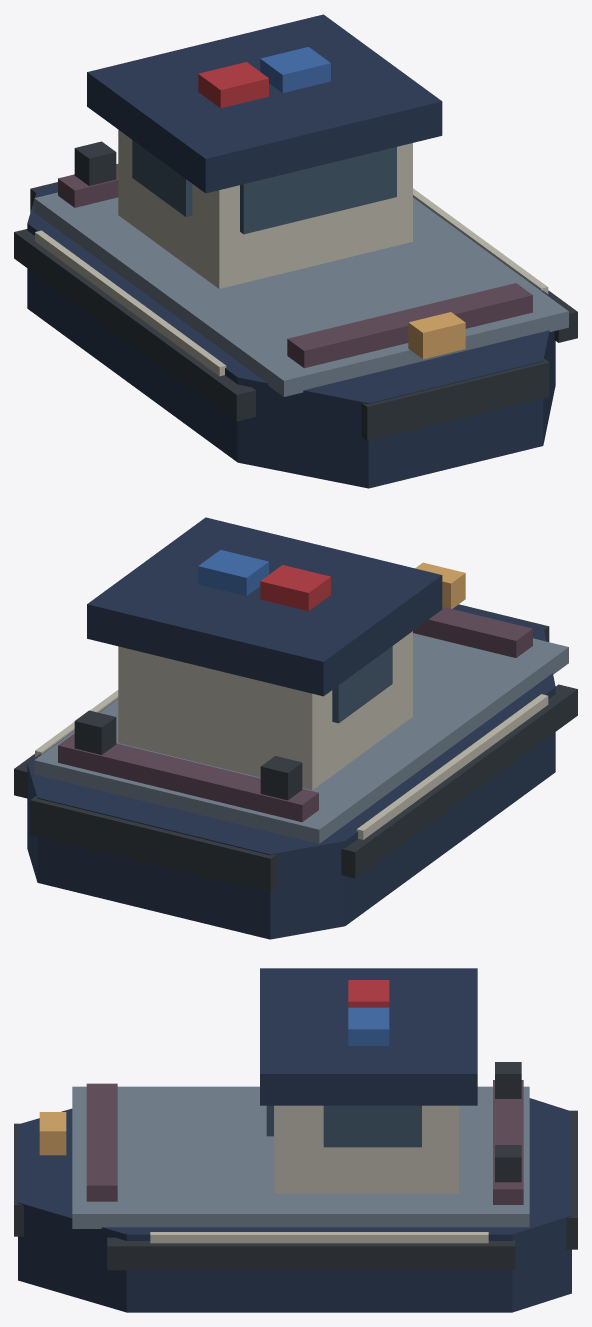
The model's file is gotham_police_boat.glb.
The picture shows the model from 3 angles, top to bottom: view 1: azimuth 30°, elevation 25°; view 2: azimuth 150°, elevation 25°; view 3: azimuth 270°, elevation 25°; orthographic projection. The views are drawn at different scales.
Visible parts, largest first — view 1: Angular patrol hull, Deck inset, Cabin roof, Cabin lower, Port rub rail, Windshield front, Forward gunwale, Bow bumper, Port side stripe, Roof police beacon red, Roof police beacon blue, Cabin window port (+5 smaller); view 2: Angular patrol hull, Cabin roof, Cabin lower, Deck inset, Stern bumper, Port rub rail, Stern gunwale, Forward gunwale, Port side stripe, Roof police beacon red, Roof police beacon blue, Cabin window port (+4 smaller); view 3: Angular patrol hull, Deck inset, Cabin roof, Cabin lower, Starboard rub rail, Cabin window starboard, Starboard side stripe, Forward gunwale, Stern gunwale, Roof police beacon blue, Bow navigation lamp, Roof police beacon red (+4 smaller).
Part boxes in pixels (x1=…): Angular patrol hull: x1=27, y1=184, x2=555, y2=488; Deck inset: x1=34, y1=192, x2=568, y2=396; Cabin roof: x1=87, y1=14, x2=442, y2=193; Cabin lower: x1=118, y1=130, x2=412, y2=288; Port rub rail: x1=14, y1=229, x2=255, y2=421; Windshield front: x1=240, y1=147, x2=396, y2=234; Forward gunwale: x1=287, y1=283, x2=532, y2=368; Bow bumper: x1=361, y1=359, x2=549, y2=441; Port side stripe: x1=35, y1=230, x2=226, y2=376; Roof police beacon red: x1=198, y1=62, x2=268, y2=108; Roof police beacon blue: x1=260, y1=47, x2=330, y2=92; Cabin window port: x1=132, y1=140, x2=192, y2=216; Angular patrol hull: x1=27, y1=605, x2=555, y2=939; Cabin roof: x1=87, y1=517, x2=442, y2=696; Cabin lower: x1=118, y1=631, x2=412, y2=790; Deck inset: x1=34, y1=633, x2=568, y2=843; Stern bumper: x1=30, y1=796, x2=276, y2=893; Port rub rail: x1=341, y1=684, x2=577, y2=878; Stern gunwale: x1=58, y1=733, x2=318, y2=822; Forward gunwale: x1=413, y1=606, x2=532, y2=657; Port side stripe: x1=356, y1=694, x2=548, y2=839; Roof police beacon red: x1=260, y1=565, x2=330, y2=611; Roof police beacon blue: x1=198, y1=549, x2=268, y2=595; Cabin window port: x1=332, y1=646, x2=392, y2=723; Angular patrol hull: x1=18, y1=1098, x2=571, y2=1312; Deck inset: x1=72, y1=1086, x2=529, y2=1228; Cabin roof: x1=260, y1=968, x2=477, y2=1105; Cabin lower: x1=274, y1=1105, x2=458, y2=1193; Starboard rub rail: x1=107, y1=1237, x2=515, y2=1270; Cabin window starboard: x1=323, y1=1105, x2=421, y2=1147; Starboard side stripe: x1=150, y1=1232, x2=488, y2=1243; Forward gunwale: x1=86, y1=1083, x2=117, y2=1201; Stern gunwale: x1=493, y1=1080, x2=523, y2=1204; Roof police beacon blue: x1=348, y1=1007, x2=389, y2=1045; Bow navigation lamp: x1=39, y1=1112, x2=66, y2=1155; Roof police beacon red: x1=348, y1=980, x2=389, y2=1007.
Bounding box in the file's own units: 1.76 × 1.27 × 2.75.
